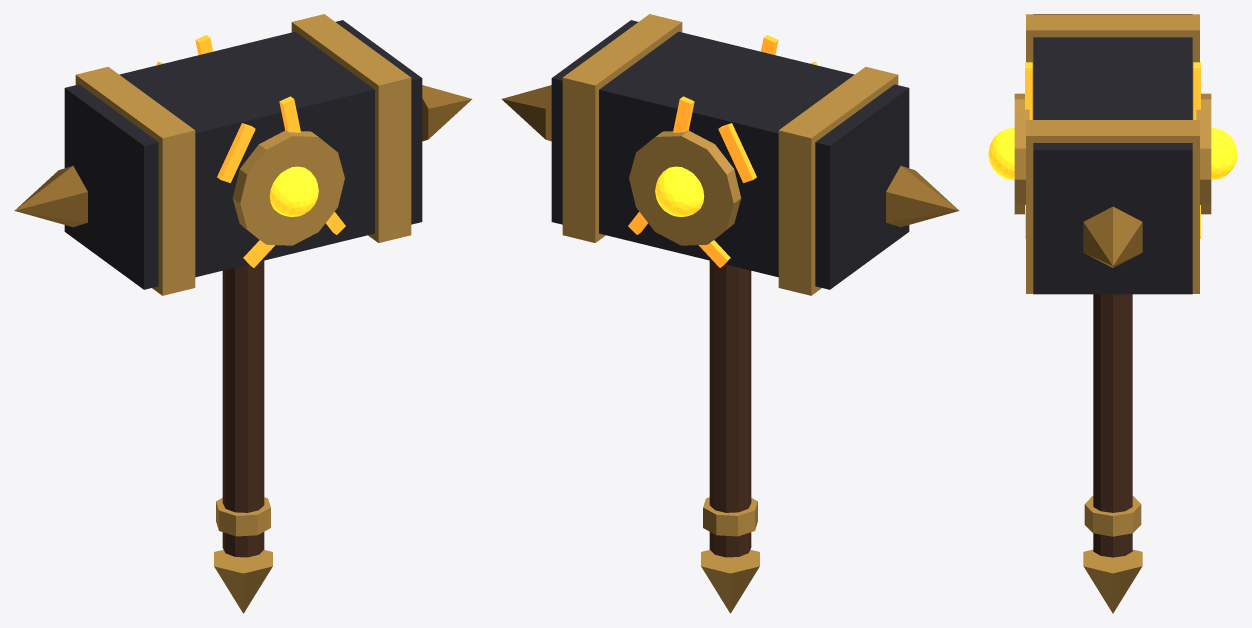
File: w_item_stoneHammer.glb
3 renders of one model, left to right at view 1: azimuth 30°, elevation 25°; view 2: azimuth 150°, elevation 25°; view 3: azimuth 270°, elevation 25°, orthographic.
Visible parts, largest first — view 1: stoneHammer; view 2: stoneHammer; view 3: stoneHammer.
Boxes of the visible parts, left/top/right/bottom form: stoneHammer: left=14, top=14, right=472, bottom=613; stoneHammer: left=501, top=14, right=959, bottom=613; stoneHammer: left=988, top=14, right=1237, bottom=613.
Size of the model in its own units: 1.05 by 1.19 by 0.4938.
Materials: 1 (1 with a texture image).
